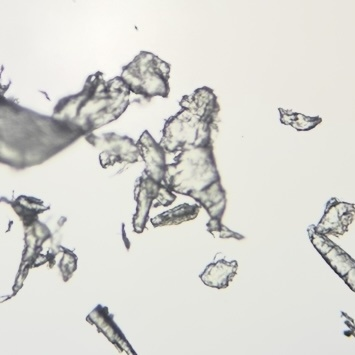microplastic: (86, 85, 244, 239), (1, 51, 170, 170), (1, 190, 78, 303), (308, 198, 355, 294), (86, 304, 136, 355), (199, 260, 238, 288), (278, 108, 322, 131), (340, 312, 355, 339), (121, 223, 130, 250)
